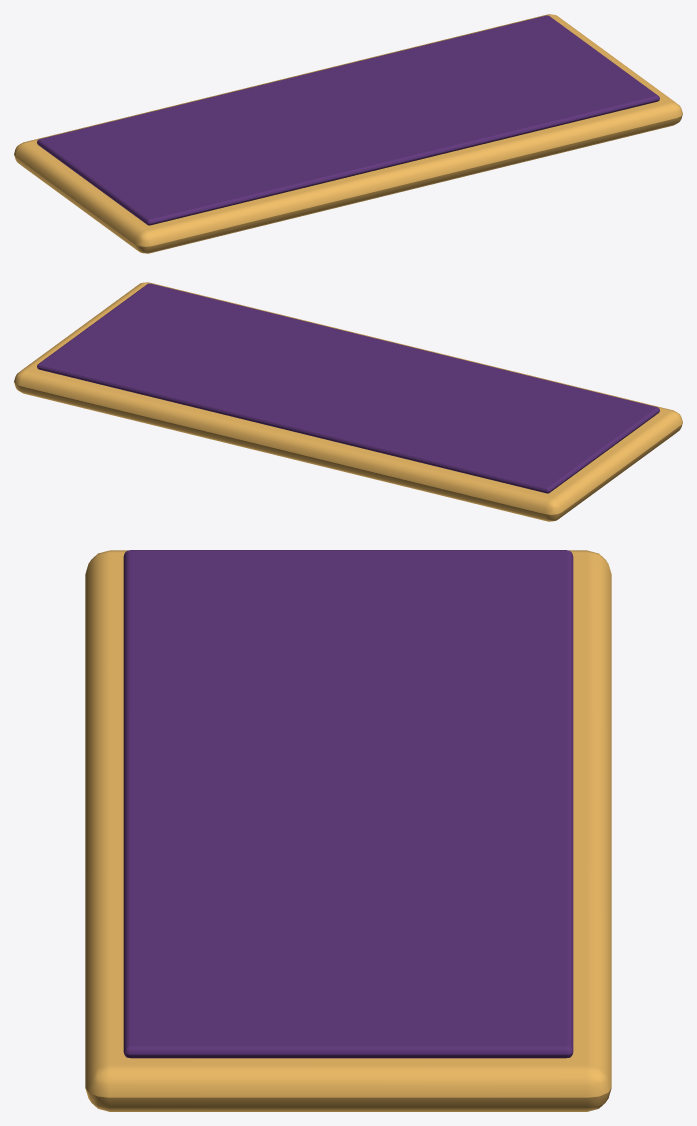
The model's file is q_trick_tray.glb.
3 views of the same model, one above another, from view 1: azimuth 30°, elevation 25°; view 2: azimuth 150°, elevation 25°; view 3: azimuth 270°, elevation 25° (orthographic). The views are drawn at different scales.
Parts seen in each view (by area): view 1: q_trick_tray / material batches; view 2: q_trick_tray / material batches; view 3: q_trick_tray / material batches.
Boxes of the visible parts, <box> form: q_trick_tray / material batches: <box>14,14,682,253</box>; q_trick_tray / material batches: <box>14,282,682,521</box>; q_trick_tray / material batches: <box>85,550,611,1111</box>.
Bounding box in the file's own units: 2.3 × 0.1115 × 0.96.
